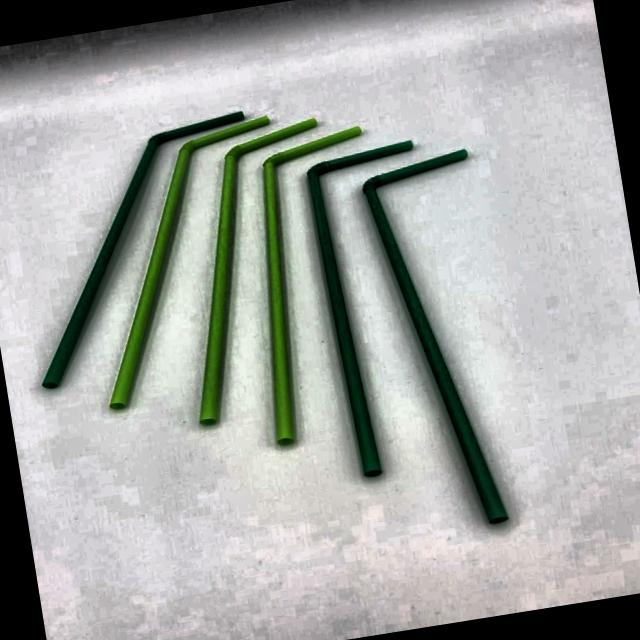plastic straw: (42, 111, 244, 388), (363, 150, 508, 524), (109, 116, 270, 409), (307, 141, 413, 477), (199, 120, 316, 424), (263, 127, 361, 445)
